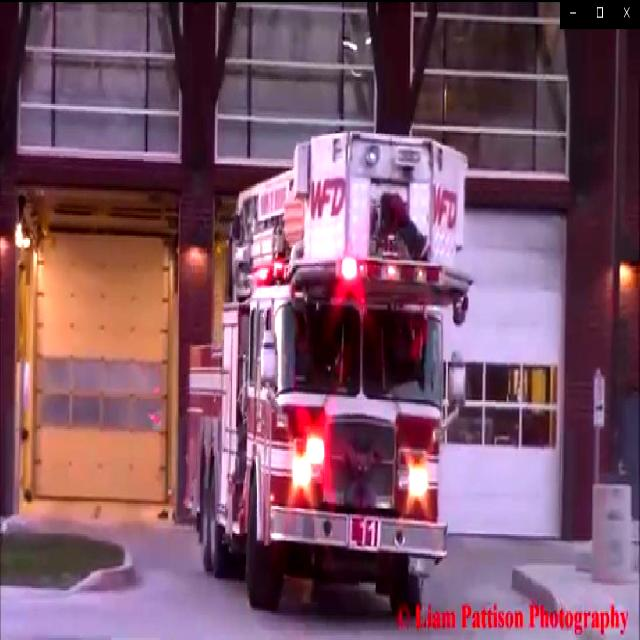emergency: (178, 125, 478, 622)
